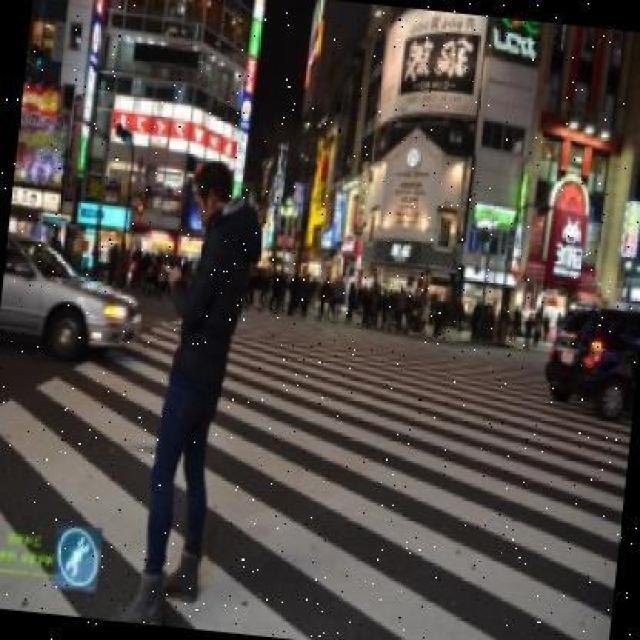Person: (118, 156, 256, 627)
